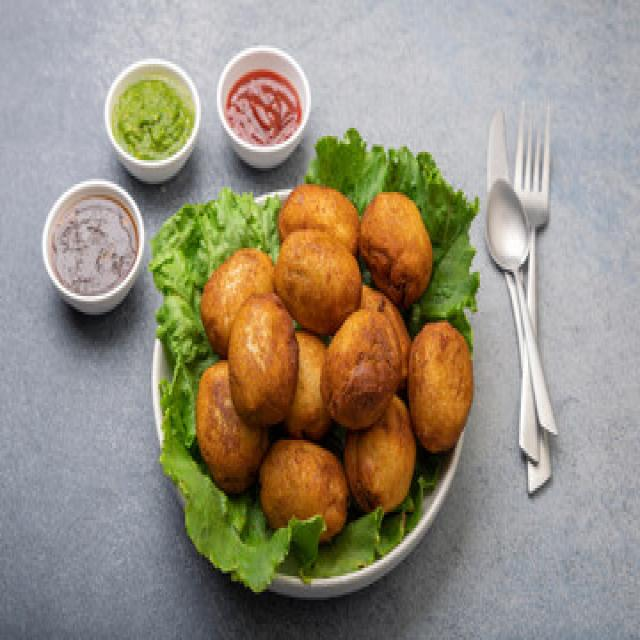BONDA: (196, 184, 471, 539)
GREEN CHUTNEY: (112, 77, 192, 157)
RED CHUTNEY: (43, 181, 144, 312)
SAUCE: (226, 67, 303, 146)
